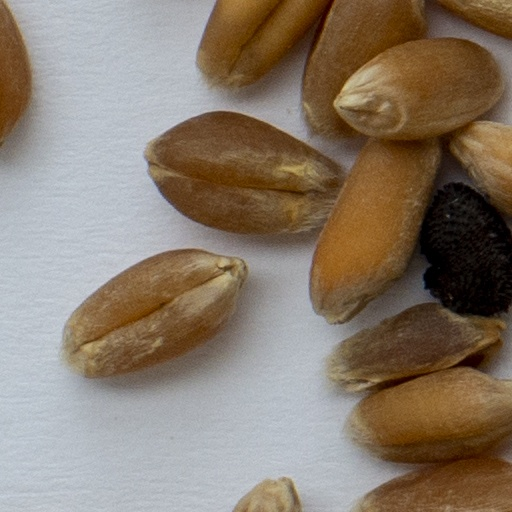Agrostemma-poly: (421, 183, 511, 316)
Wheat-grain-poly: (144, 111, 345, 235), (61, 248, 247, 380), (307, 137, 438, 324), (333, 33, 504, 140), (304, 0, 427, 140), (342, 369, 511, 466), (327, 304, 501, 393), (196, 0, 331, 93), (352, 461, 511, 511), (451, 122, 511, 219), (0, 0, 35, 149), (428, 0, 511, 41), (228, 474, 305, 511)
